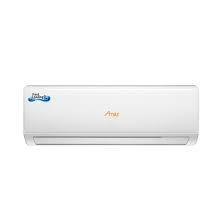air conditioner: (24, 84, 199, 145)
